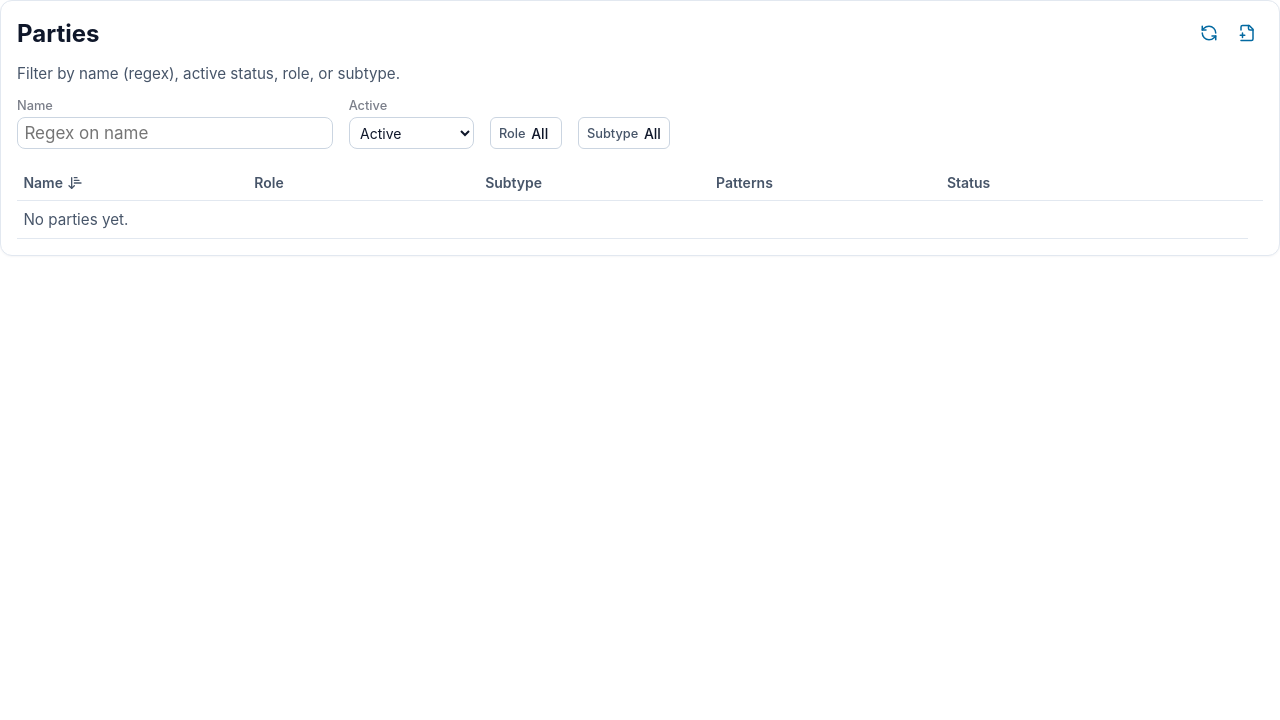
Test case: PartiesSection › subtype combobox loads suggestions in create modal
Click the button named "new party".
click(1247, 33)  # box [1231,17,1263,49]
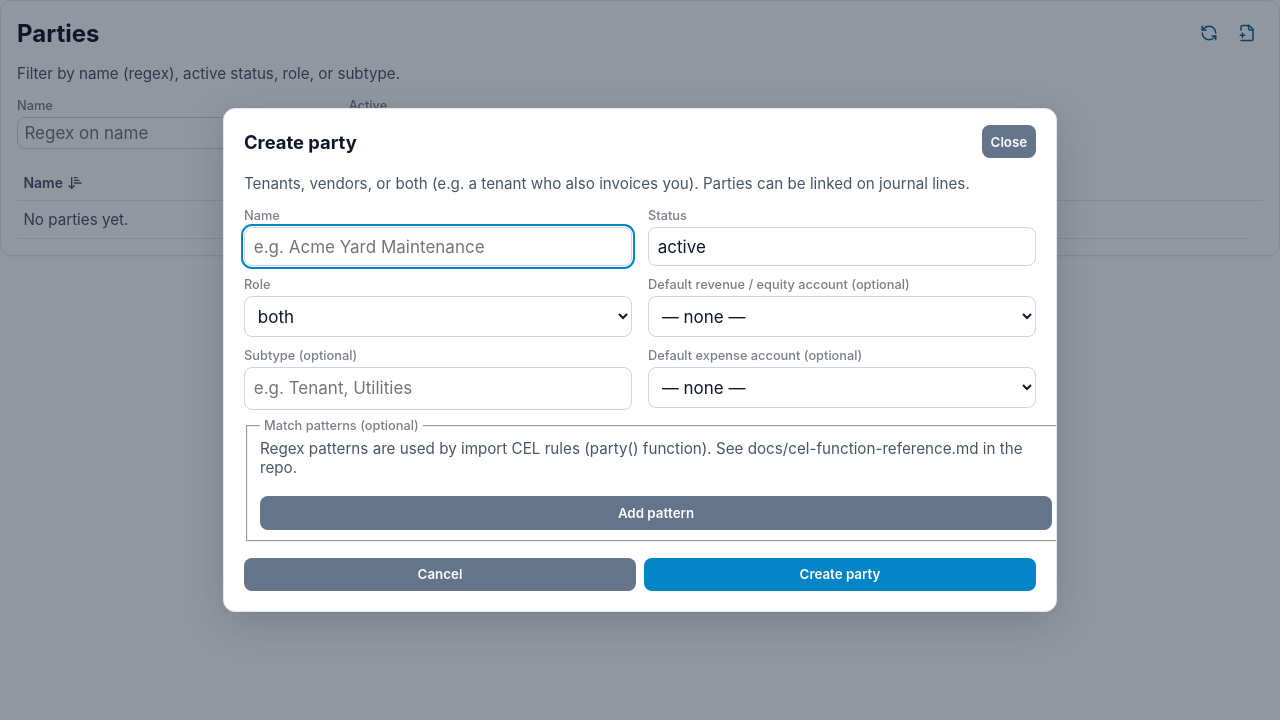
Type "Ten" into the field named "Party subtype".
click(438, 388); type("Ten")  # box [244,367,632,410]
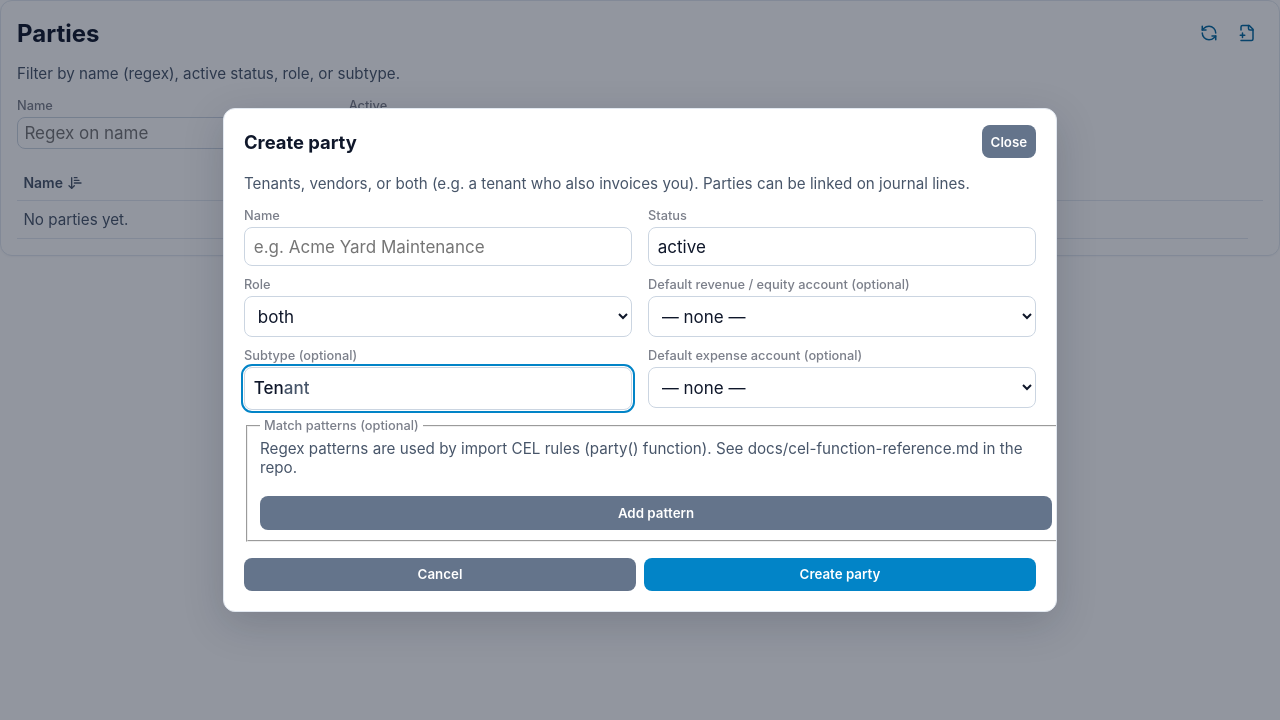
Now the text with class "subtype-ghost-suffix" reads "ant", box [284,378,310,398]
Press Enter
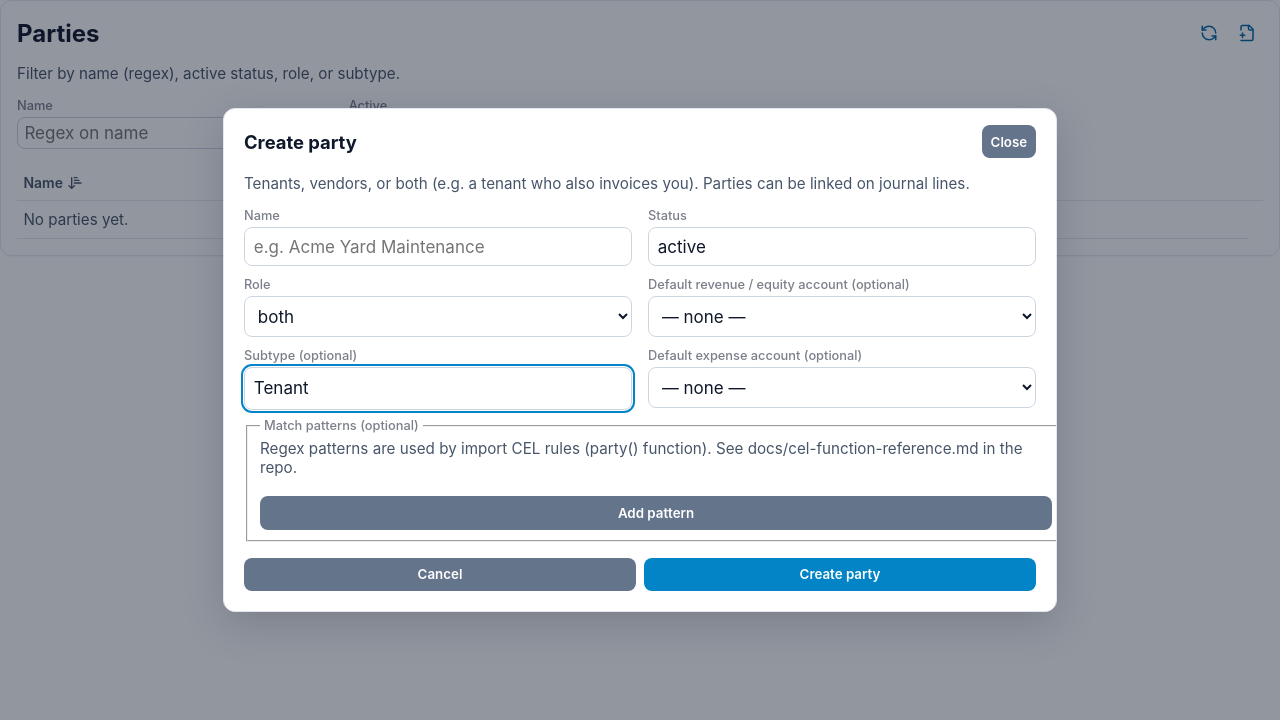
Now the field named "Party subtype" holds "Tenant", box [244,367,632,410]
